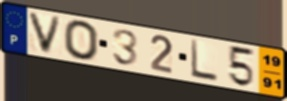2: (150, 34, 175, 76)
3: (111, 29, 140, 67)
5: (225, 43, 255, 89)
L: (189, 39, 220, 84)
O: (62, 19, 101, 62)
V: (26, 10, 65, 56)
